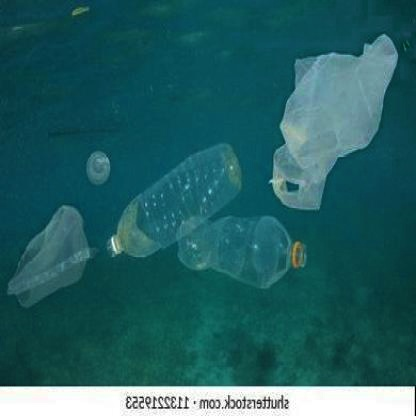pbag: (262, 25, 404, 226), (2, 198, 106, 312)
pbottle: (102, 138, 246, 274), (173, 206, 308, 296)
plastic: (81, 138, 122, 189)
